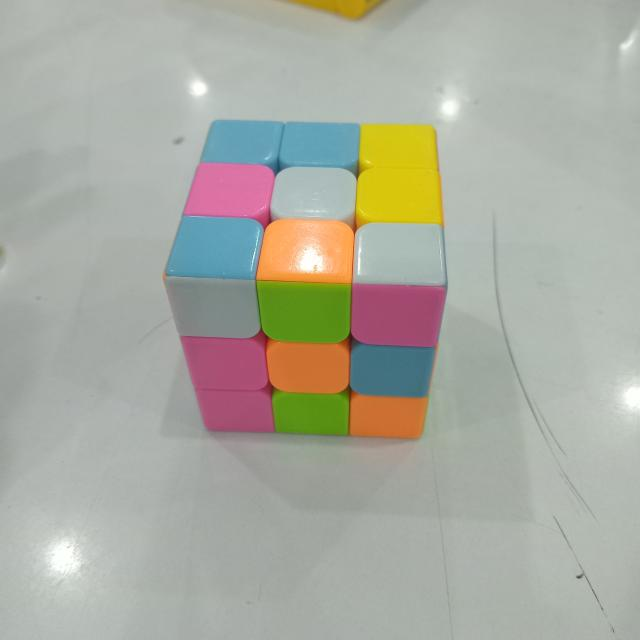left: (165, 276, 445, 438)
rubik: (161, 119, 449, 440)
up: (165, 120, 446, 286)
